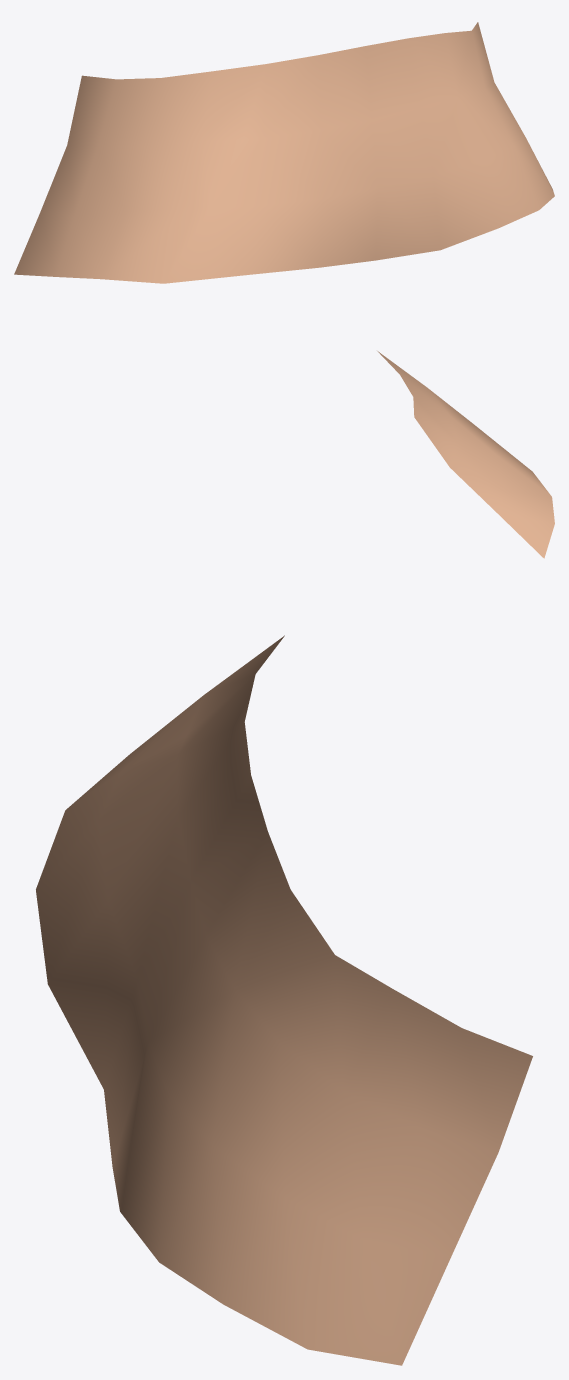
File: anterior-region-of-wrist-r.glb
The picture shows the model from 3 angles, top to bottom: view 1: azimuth 30°, elevation 25°; view 2: azimuth 150°, elevation 25°; view 3: azimuth 270°, elevation 25°; orthographic projection. The views are drawn at different scales.
Visible parts, largest first — view 1: Anterior region of wrist.r; view 2: Anterior region of wrist.r; view 3: Anterior region of wrist.r.
Part boxes in pixels (box(x1,y1,x2,y2)): Anterior region of wrist.r: box(14, 22, 554, 283); Anterior region of wrist.r: box(377, 351, 554, 558); Anterior region of wrist.r: box(36, 635, 532, 1365).
Bounding box in the file's own units: 0.0823 × 0.032 × 0.0349.
